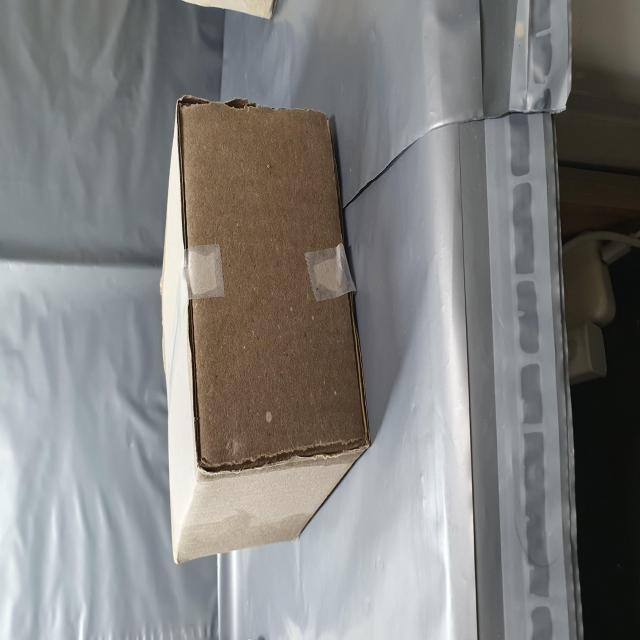wet: (98, 321, 302, 640), (43, 319, 75, 582)
